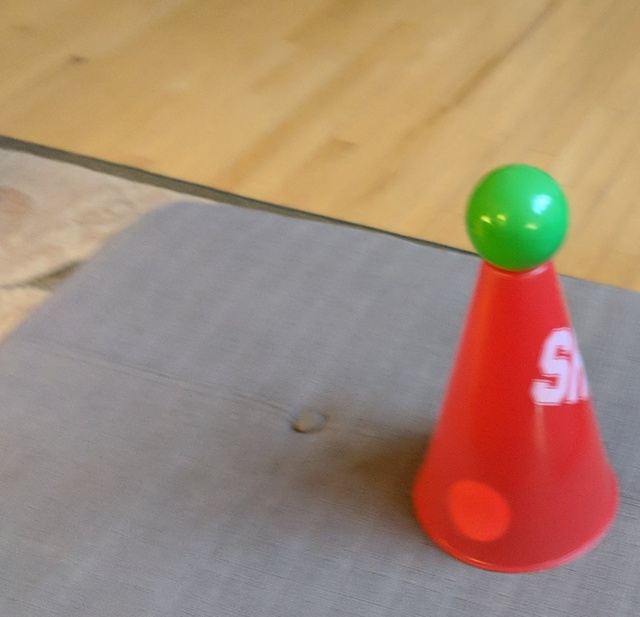Ball: (466, 161, 568, 271)
